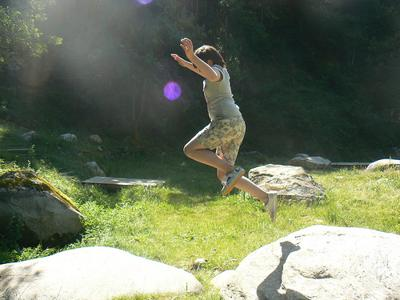person: (172, 38, 278, 222)
